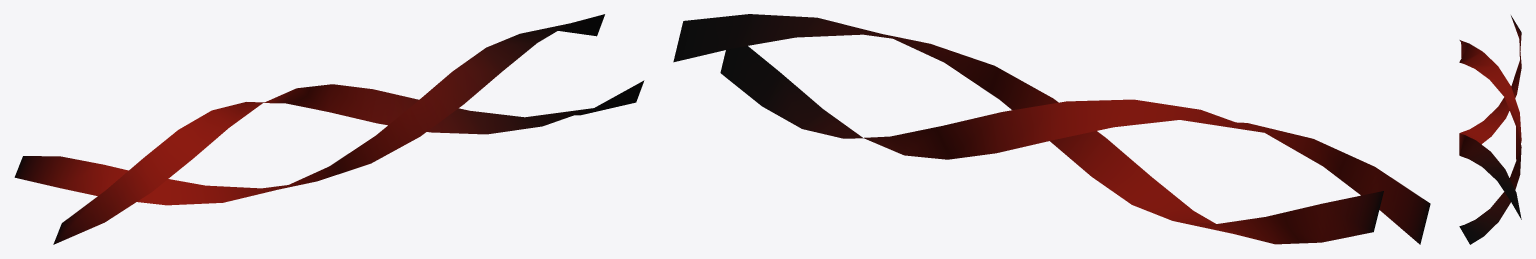
File: SM_LongTwist.fbx
The picture shows the model from 3 angles, left to right: view 1: azimuth 30°, elevation 25°; view 2: azimuth 150°, elevation 25°; view 3: azimuth 270°, elevation 25°; orthographic projection. The views are drawn at different scales.
Visible parts, largest first — view 1: Box004; view 2: Box004; view 3: Box004.
Boxes of the visible parts, left/top/right/bottom form: Box004: left=14, top=14, right=644, bottom=244; Box004: left=673, top=14, right=1430, bottom=244; Box004: left=1459, top=15, right=1521, bottom=244.
Bounding box in the file's own units: 184 × 26.09 × 26.01.
